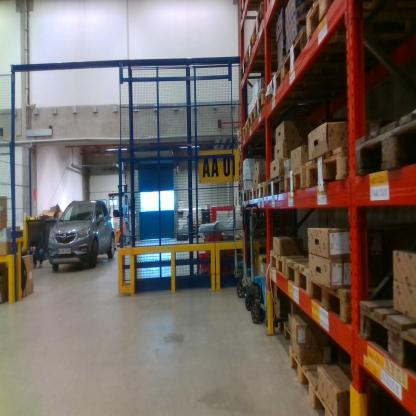forklift: (101, 179, 137, 251)
pallet: (355, 286, 415, 374), (356, 95, 415, 175), (304, 362, 387, 414), (309, 270, 369, 338), (279, 22, 329, 82), (303, 135, 354, 193), (305, 2, 383, 39), (264, 66, 321, 106), (282, 248, 321, 297), (288, 342, 316, 404), (250, 88, 301, 119), (251, 1, 281, 50), (246, 34, 286, 69), (256, 308, 287, 348), (271, 248, 304, 285), (244, 100, 281, 132), (240, 54, 277, 84), (285, 157, 308, 197), (242, 123, 280, 144), (267, 170, 288, 202), (240, 3, 263, 24), (282, 319, 297, 349), (249, 184, 260, 206), (239, 188, 251, 206), (257, 181, 267, 202), (239, 232, 255, 242), (238, 182, 244, 193), (238, 197, 245, 206), (238, 144, 243, 154), (238, 177, 244, 185), (239, 160, 243, 172), (238, 168, 243, 177), (238, 137, 243, 146), (238, 128, 242, 137), (239, 152, 242, 163)
pallet_truck: (245, 200, 270, 325), (237, 200, 248, 301), (228, 191, 240, 279)
small_load_carrier: (201, 232, 222, 254), (196, 249, 208, 272)
